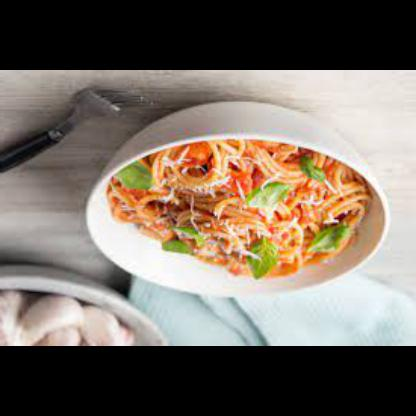spaghetti: (108, 139, 370, 281)
